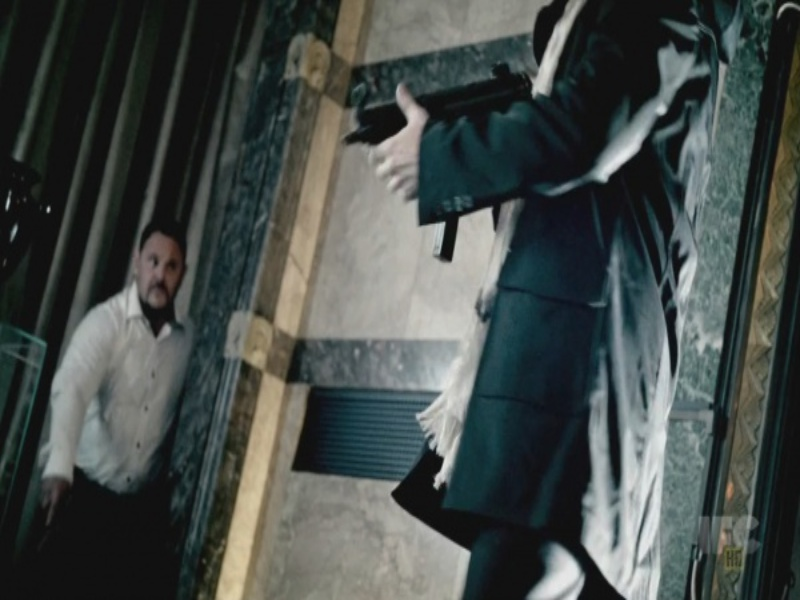person: (367, 1, 739, 599), (20, 216, 198, 584)
weapon: (338, 63, 527, 262), (38, 485, 62, 551)
